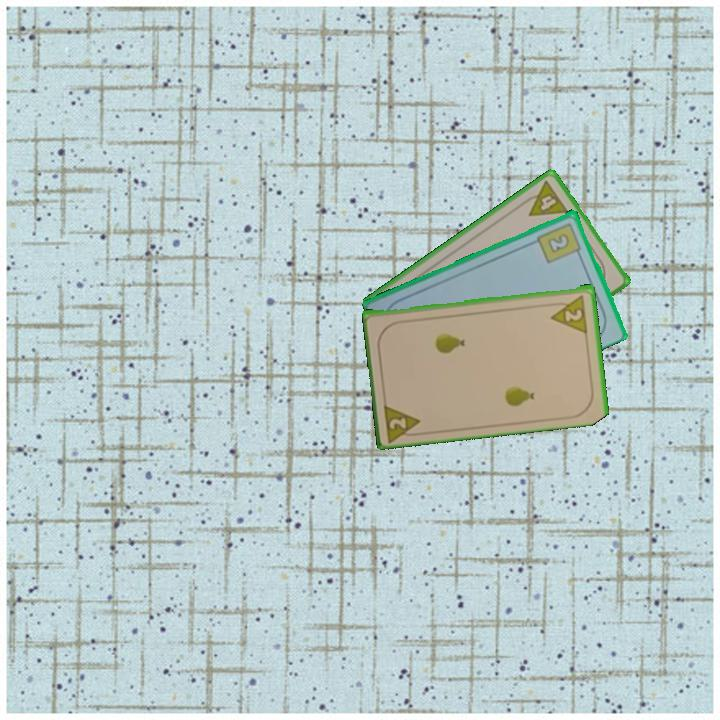2b: (534, 219, 584, 266)
2p: (381, 398, 426, 443), (547, 291, 590, 334)
4p: (518, 177, 571, 219)
